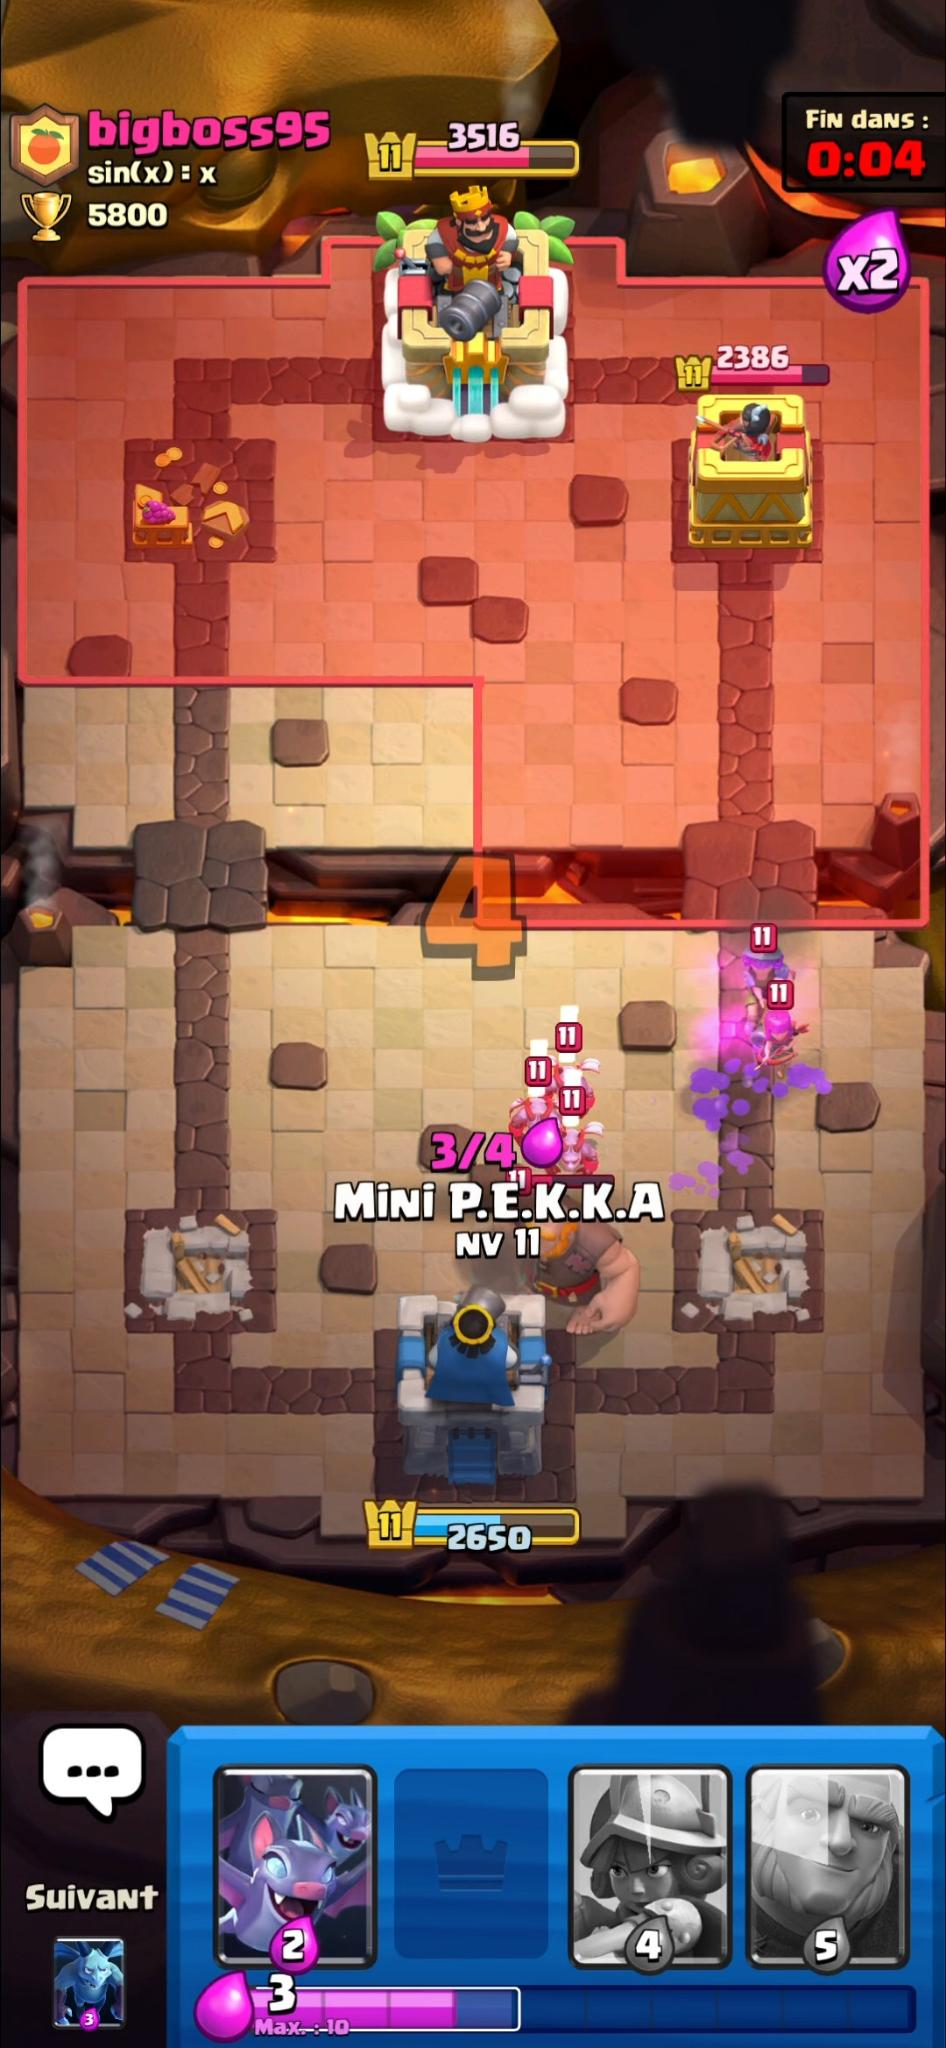archere: (757, 1011, 807, 1084)
gargouille: (542, 1130, 615, 1176), (547, 1057, 608, 1110), (511, 1091, 568, 1142)
geant: (517, 1190, 649, 1343)
mousquetaire: (742, 942, 791, 1033)
